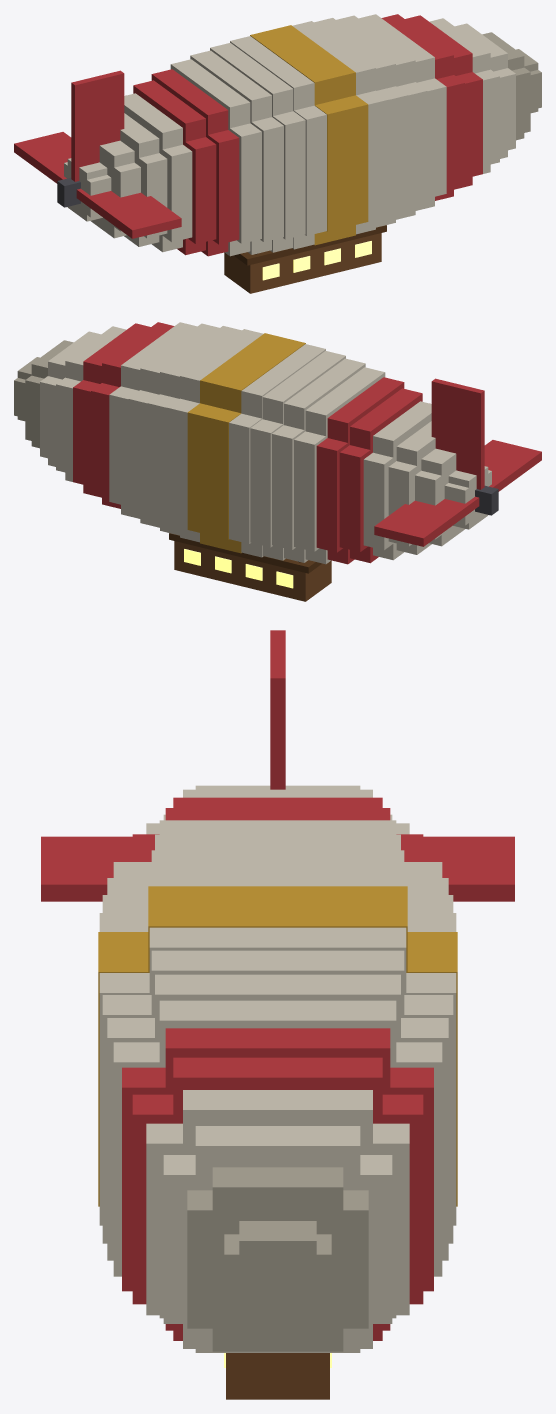
File: tt-airship.glb
The picture shows the model from 3 angles, top to bottom: view 1: azimuth 30°, elevation 25°; view 2: azimuth 150°, elevation 25°; view 3: azimuth 270°, elevation 25°; orthographic projection. The views are drawn at different scales.
Visible parts, largest first — view 1: box-prop; view 2: box-prop; view 3: box-prop.
Part boxes in pixels (<box>): box-prop: <box>14,14,541,293</box>; box-prop: <box>14,322,541,601</box>; box-prop: <box>41,630,514,1399</box>.
Bounding box in the file's own units: 11.4 × 5.6 × 5.
